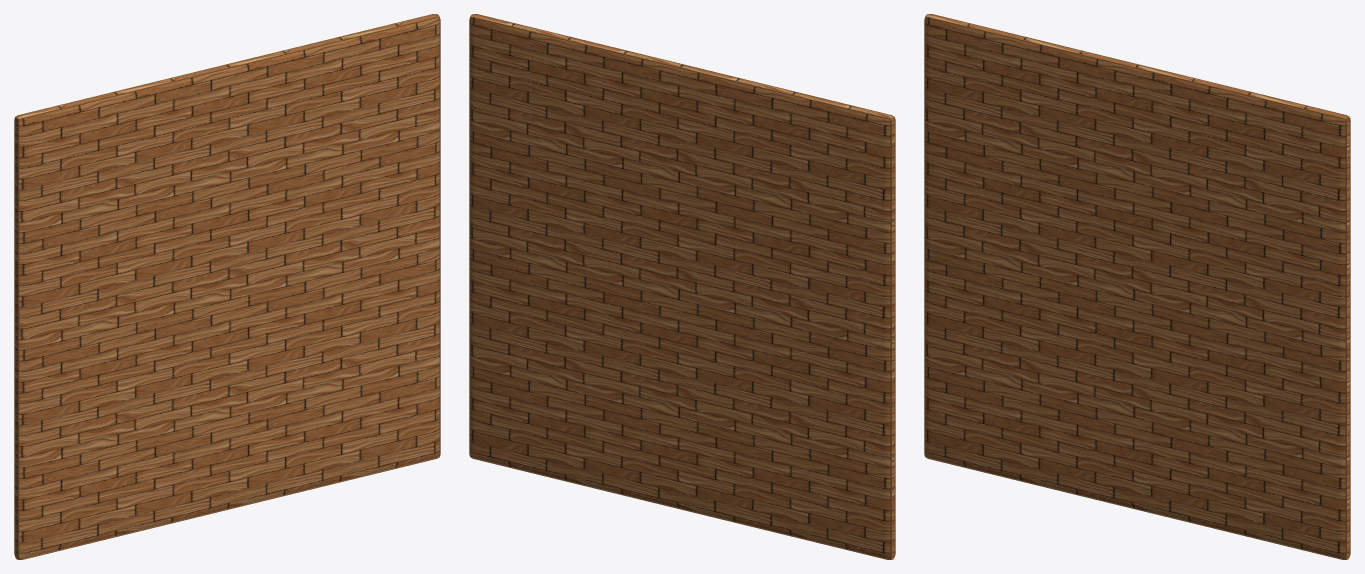
The model's file is SM_FoamWall_4x4.fbx.
3 renders of one model, left to right at view 1: azimuth 30°, elevation 25°; view 2: azimuth 150°, elevation 25°; view 3: azimuth 330°, elevation 25°, orthographic.
Visible parts, largest first — view 1: SM_SoftFoam_Wall_10_4x4; view 2: SM_SoftFoam_Wall_10_4x4; view 3: SM_SoftFoam_Wall_10_4x4.
Part boxes in pixels (left/top/right/bottom): SM_SoftFoam_Wall_10_4x4: left=14, top=14, right=440, bottom=559; SM_SoftFoam_Wall_10_4x4: left=469, top=14, right=895, bottom=559; SM_SoftFoam_Wall_10_4x4: left=924, top=14, right=1350, bottom=559.
Bounding box in the file's own units: 384 × 384 × 10.
